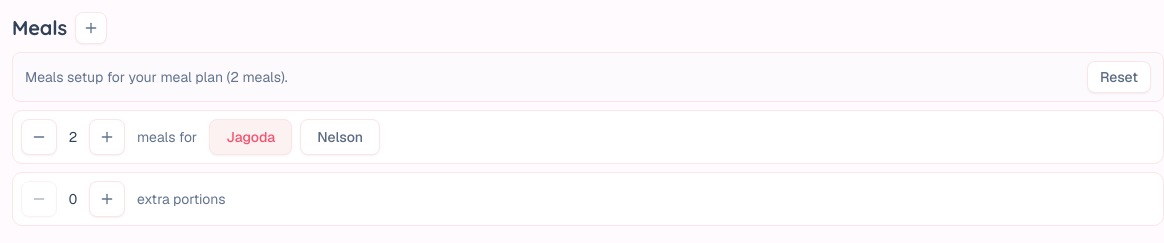
Test case: RecipePageProvider plan cook hydration › resets to the household default when Reset is clicked
Click the button "Reset".
click(1119, 77)  # box [1087,61,1151,93]
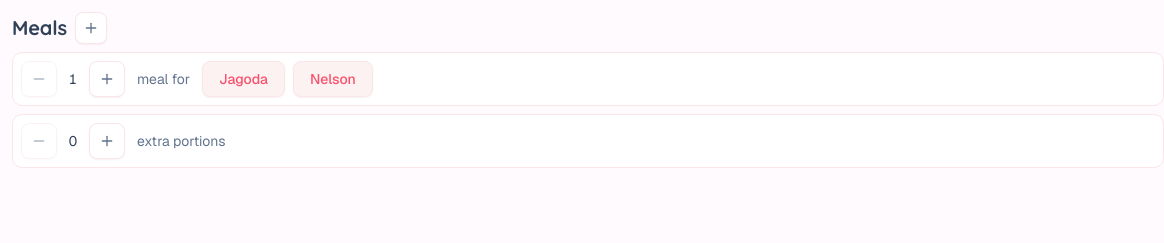
Expected: the text "Meals setup for" is gone
Expected: the text named "Number of meals for combination 1" reads "1", [69,70,77,88]
Expected: the button with aria-label "Remove Nelson for combination 1" is shown, [293,61,373,97]
